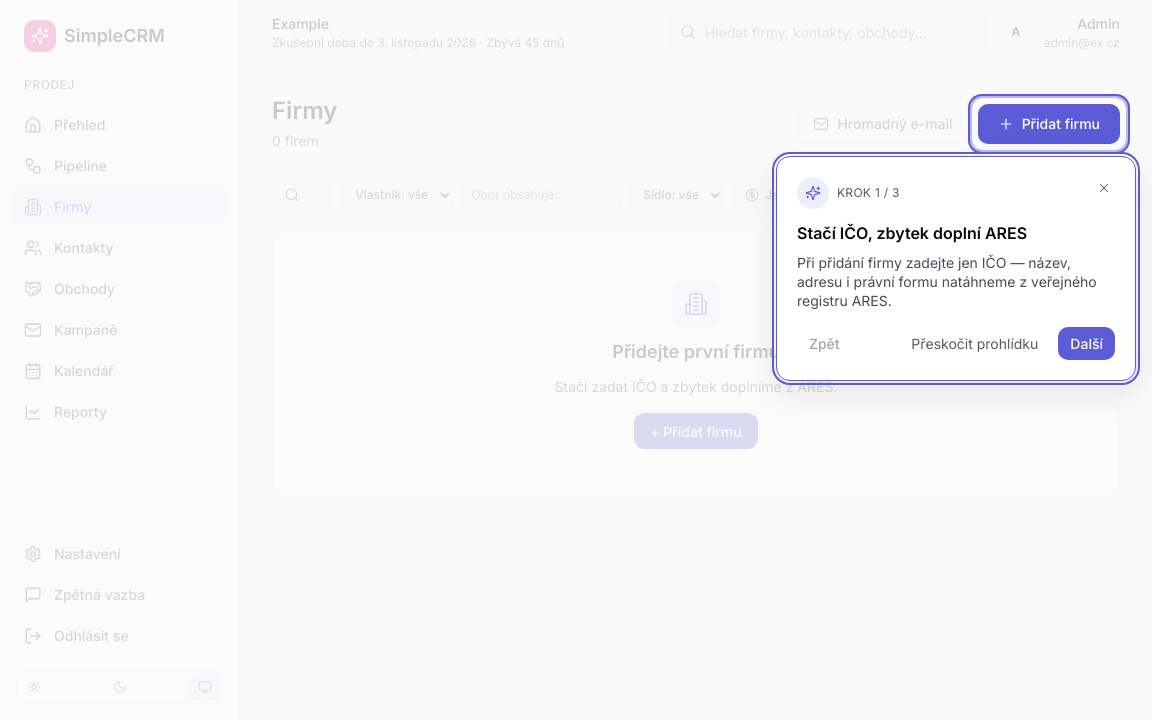
Test: Companies table: search + sorting + tabs › shows the empty state with a 'no match' message when search returns nothing
Type "xyz" into the search field named "hledat firmu" at (301, 195), box [272,175,330,215]
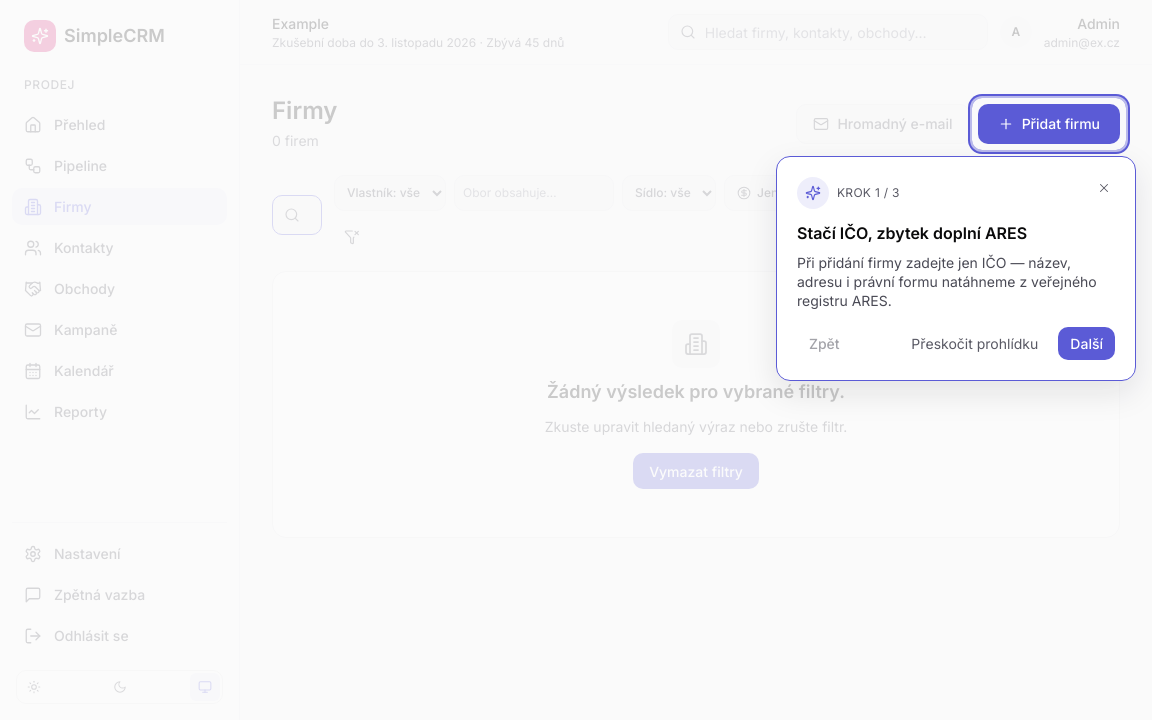
Now the heading "Žádný výsledek pro vybrané filtry." is shown, box [547,380,845,404]
